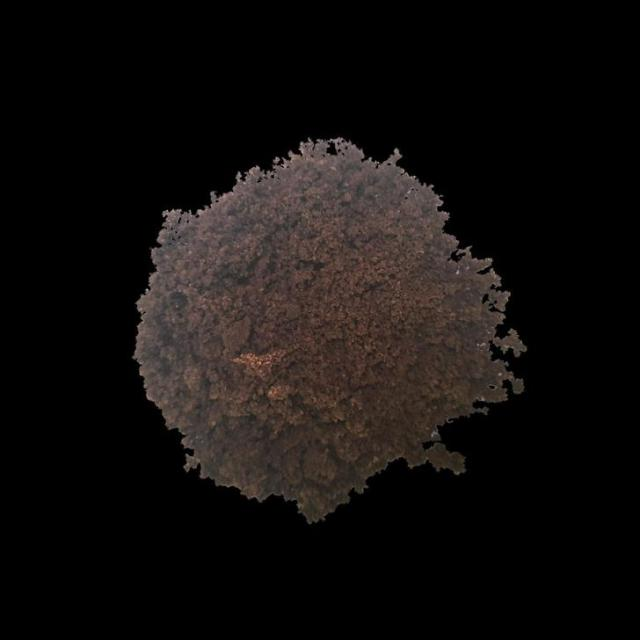Black Soil: (209, 229, 427, 420)
